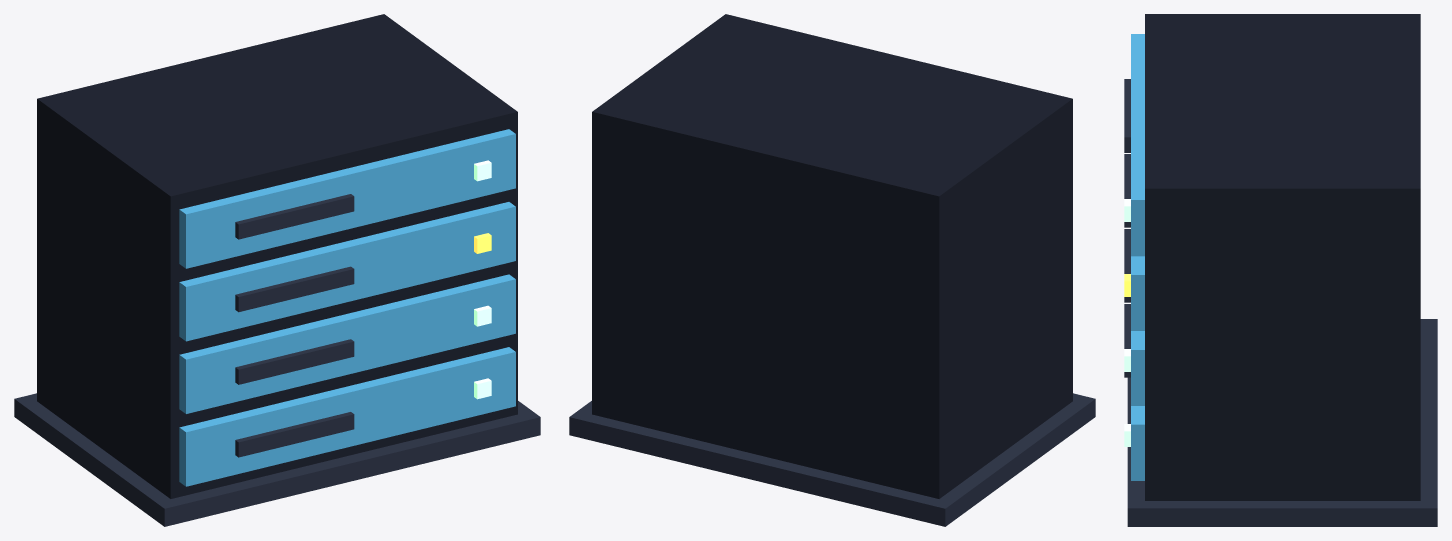
File: server.glb
3 renders of one model, left to right at view 1: azimuth 30°, elevation 25°; view 2: azimuth 150°, elevation 25°; view 3: azimuth 270°, elevation 25°, orthographic. The views are drawn at different scales.
Parts seen in each view (by area): view 1: chassis, unit (×4), base, vent (×4); view 2: chassis, base; view 3: chassis, base, unit (×4), vent.
Part boxes in pixels (bbox=[...]): chassis: bbox=[37, 14, 517, 498]; unit (×4): bbox=[179, 129, 515, 486]; base: bbox=[14, 393, 540, 526]; vent (×4): bbox=[235, 194, 354, 457]; chassis: bbox=[592, 14, 1072, 498]; base: bbox=[569, 393, 1095, 526]; chassis: bbox=[1145, 14, 1420, 500]; base: bbox=[1127, 319, 1437, 526]; unit (×4): bbox=[1131, 34, 1144, 480]; vent: bbox=[1124, 79, 1130, 152].
Size of the model in its own units: 1.3 by 1.06 by 0.91.
